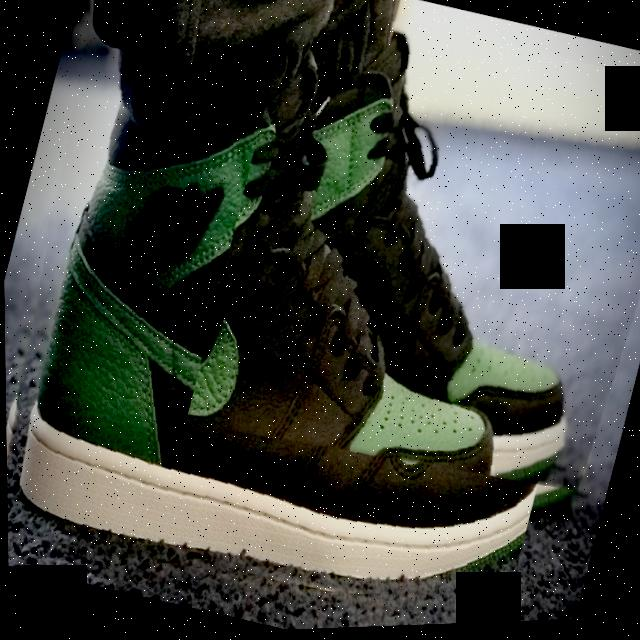shoe: (1, 41, 617, 640), (178, 0, 640, 536)
